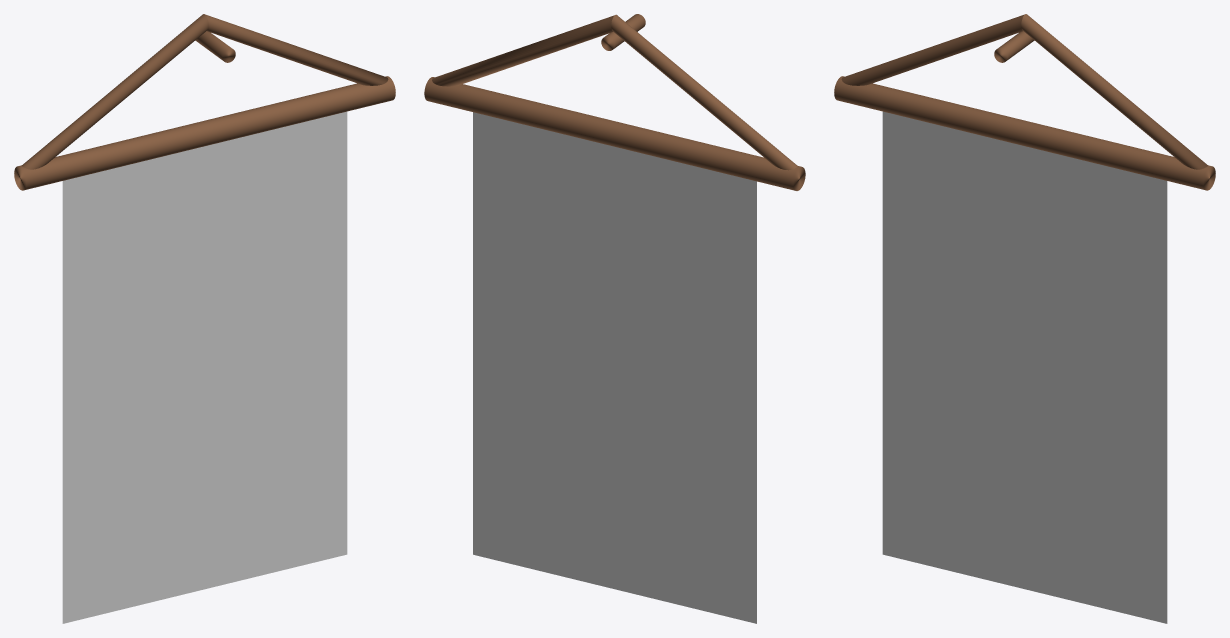
The model's file is trapmap.glb.
3 views of the same model, side by side, from view 1: azimuth 30°, elevation 25°; view 2: azimuth 150°, elevation 25°; view 3: azimuth 330°, elevation 25° (orthographic).
Visible parts, largest first — view 1: Plane, Frame, Pointy frame, holder; view 2: Plane, Frame, Pointy frame, holder; view 3: Plane, Frame, Pointy frame, holder.
Part boxes in pixels (x1,y1,x2,y2): Plane: [62, 111, 347, 623]; Frame: [14, 76, 395, 190]; Pointy frame: [22, 14, 388, 169]; holder: [195, 31, 235, 62]; Plane: [473, 112, 756, 623]; Frame: [424, 77, 805, 190]; Pointy frame: [432, 14, 797, 170]; holder: [601, 14, 645, 50]; Plane: [882, 111, 1167, 623]; Frame: [834, 76, 1215, 190]; Pointy frame: [841, 14, 1207, 169]; holder: [994, 31, 1034, 62].
Size of the model in its own units: 1.56 by 2.32 by 0.228.
